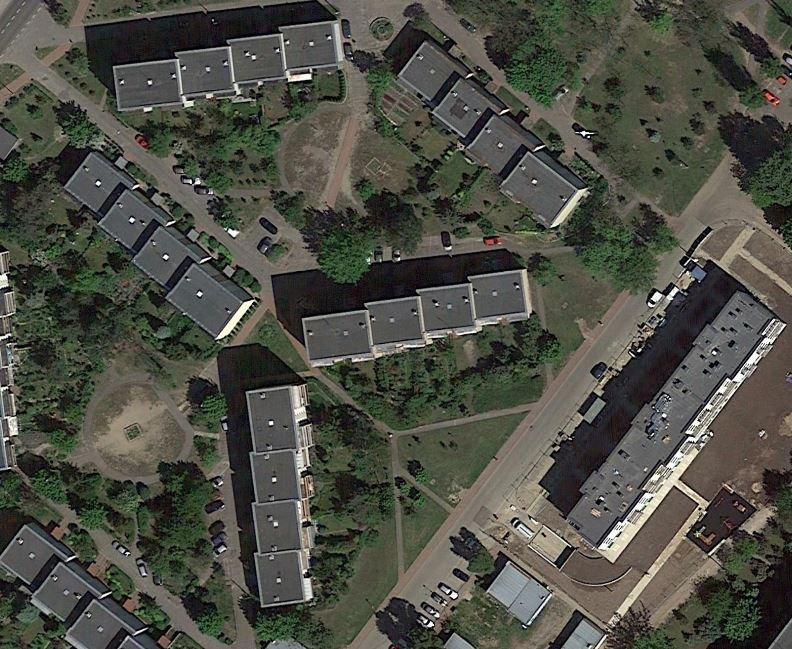block of flats: (567, 279, 791, 565), (52, 141, 257, 345), (390, 31, 594, 228), (285, 258, 548, 384), (107, 14, 355, 127), (1, 513, 170, 649), (234, 375, 327, 612)
